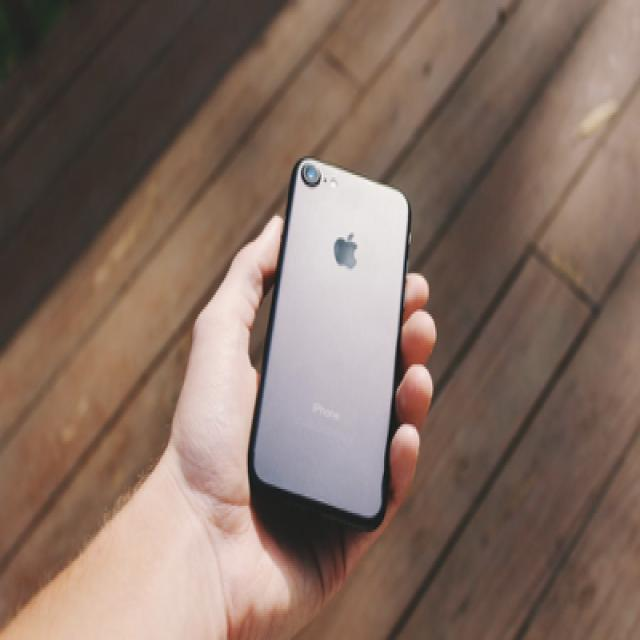cellphone: (246, 153, 412, 540)
